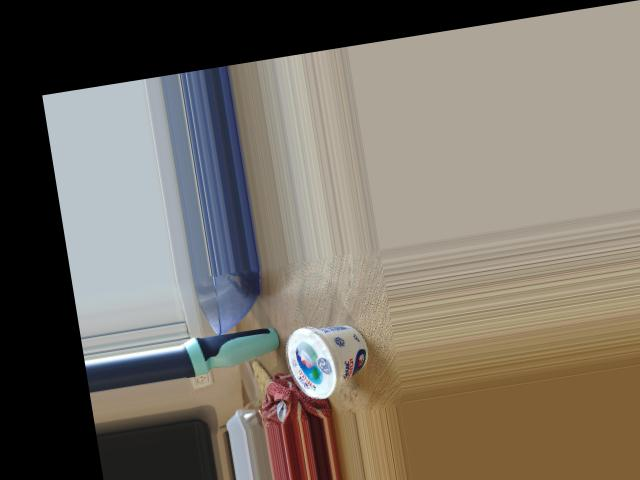cotage: (276, 313, 376, 392)
